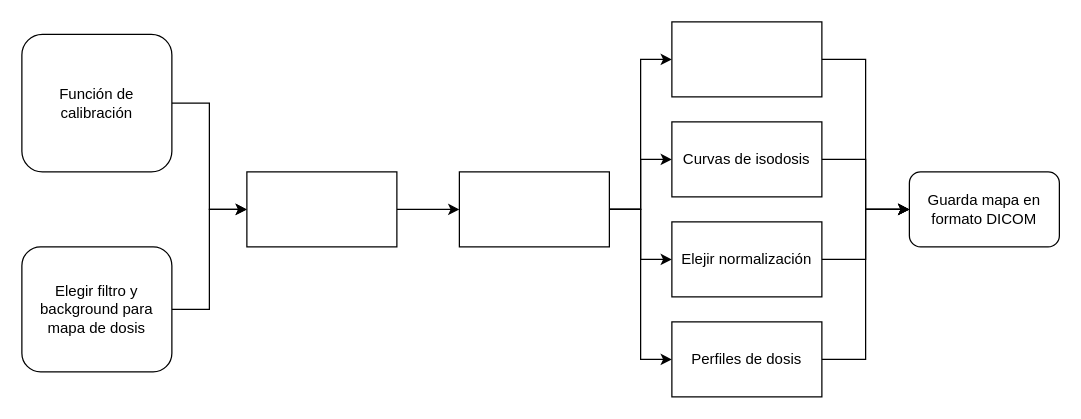
Some shapes in this 1081 by 419 pixel diagram are drawn without their labels. Each missing label, with the box of its shape:
Elegir puntos fiduciales y remover marcas: (246, 171, 397, 247)
Generar mapa de dosis: (458, 171, 609, 247)
Histograma de dosis: (671, 21, 822, 97)
